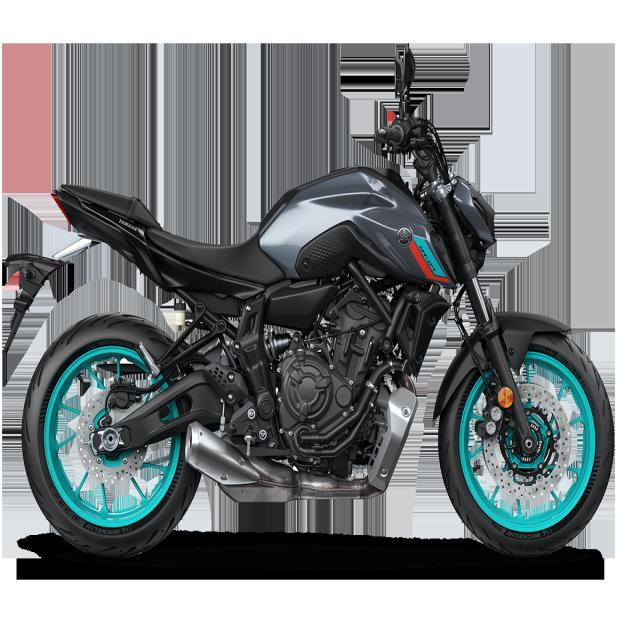Bike: (0, 45, 615, 561)
